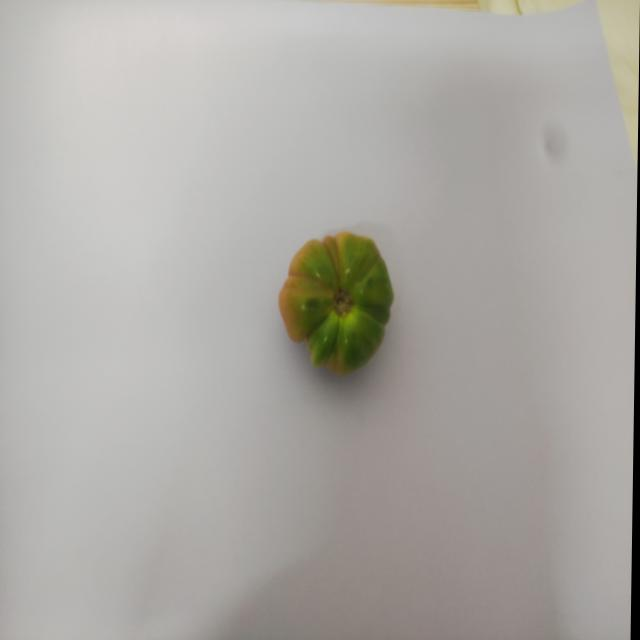yesil: (263, 206, 420, 380)
